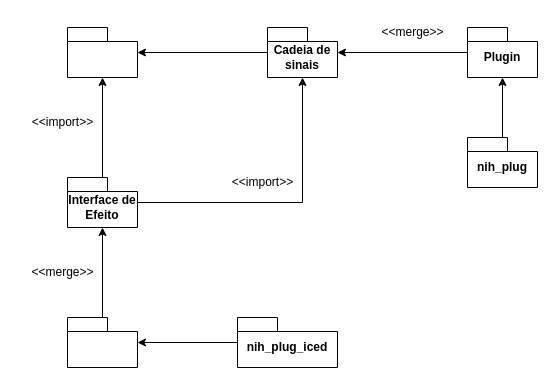
Some shapes in this 555 by 385 pixel diagram are drawn without their labels. The shapes that lost their labels are listed below. From the top down, each one's centre as x and y in pixels, then its label:
At point 102,52: "Efeito".
At point 102,342: "Editor".
